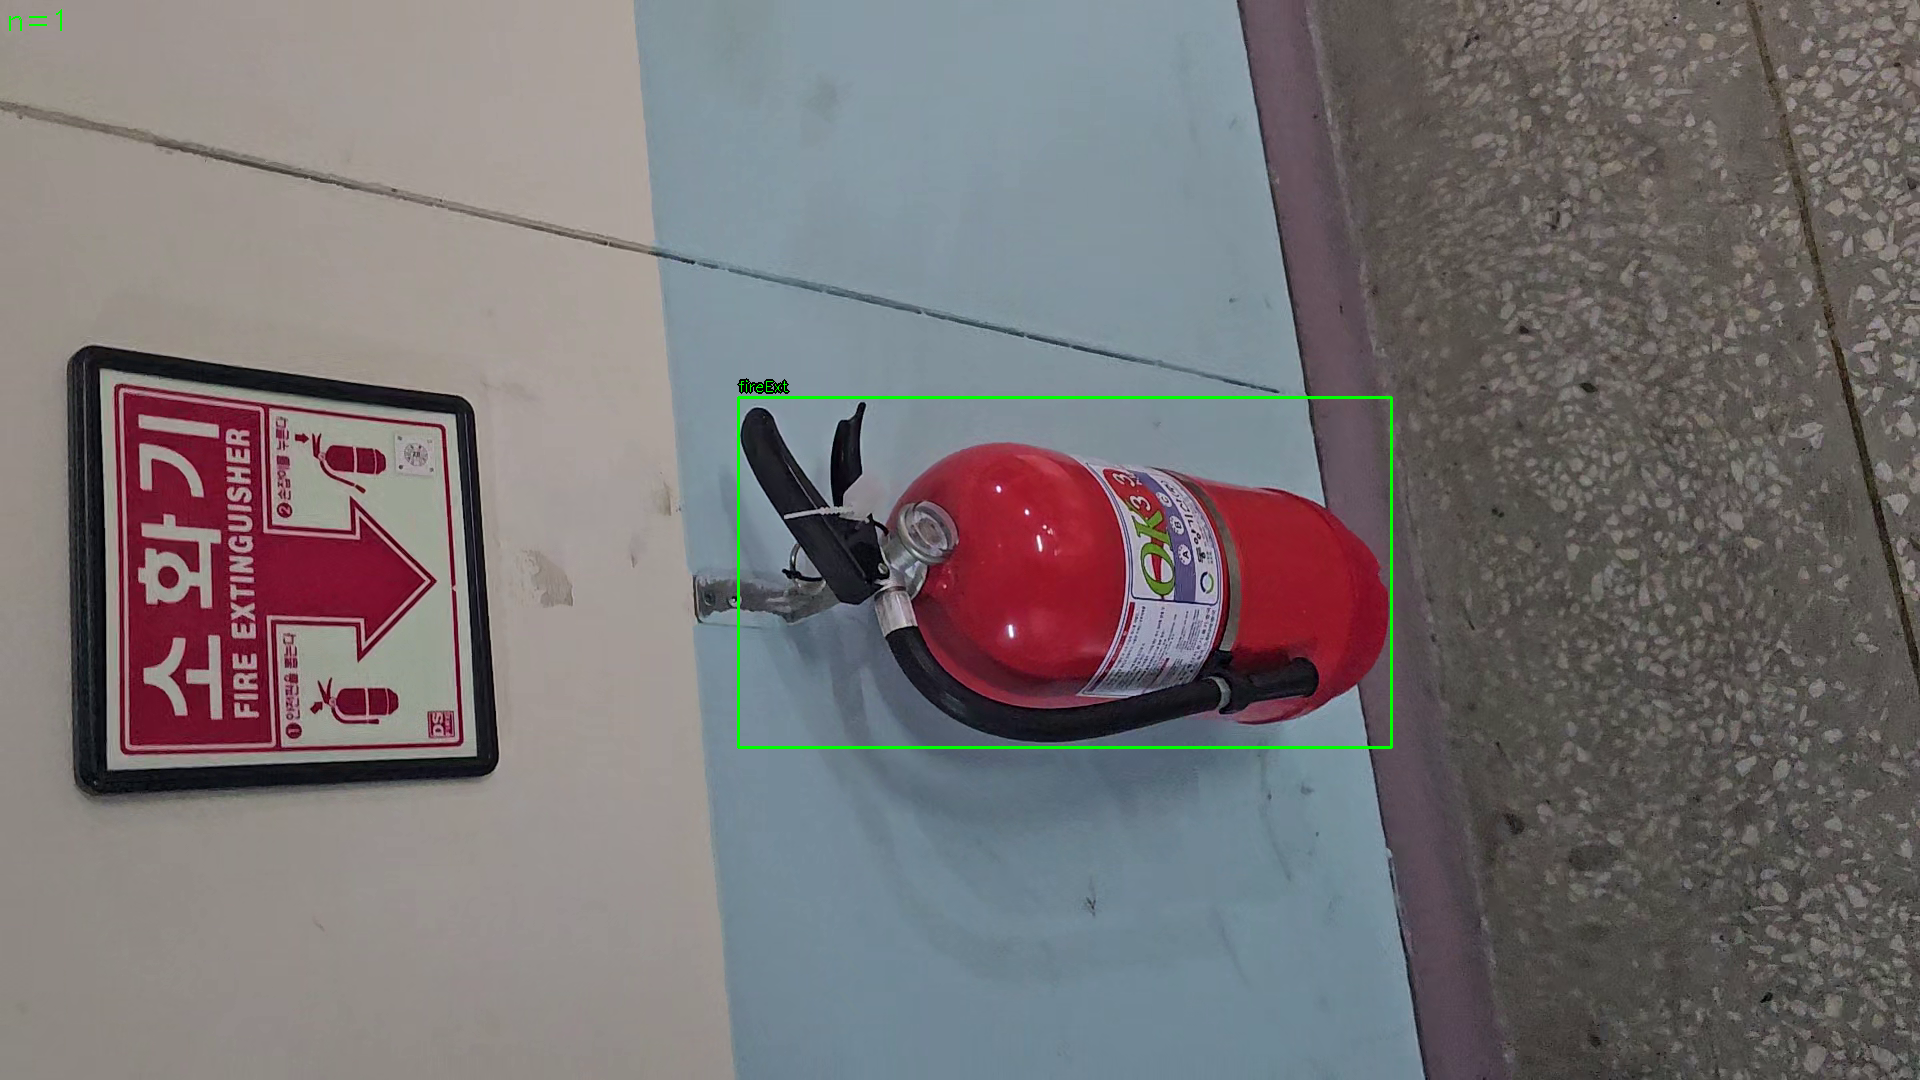lane: (738, 397, 1393, 748)
